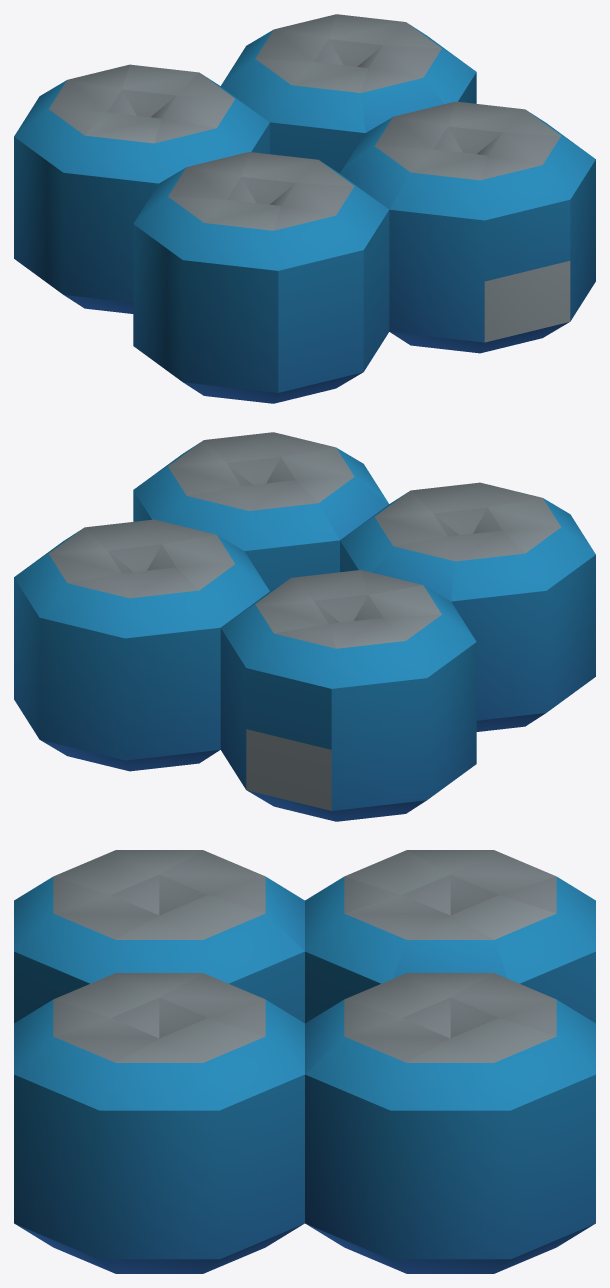
File: space-containers-c.glb
3 views of the same model, one above another, from view 1: azimuth 30°, elevation 25°; view 2: azimuth 150°, elevation 25°; view 3: azimuth 270°, elevation 25° (orthographic). The views are drawn at different scales.
Parts seen in each view (by area): view 1: containers_C; view 2: containers_C; view 3: containers_C.
Part boxes in pixels (box(x1,y1,x2,y2)): containers_C: box(14, 14, 595, 403); containers_C: box(14, 432, 595, 821); containers_C: box(14, 850, 595, 1273).
Size of the model in its own units: 0.5 by 0.2 by 0.5.
